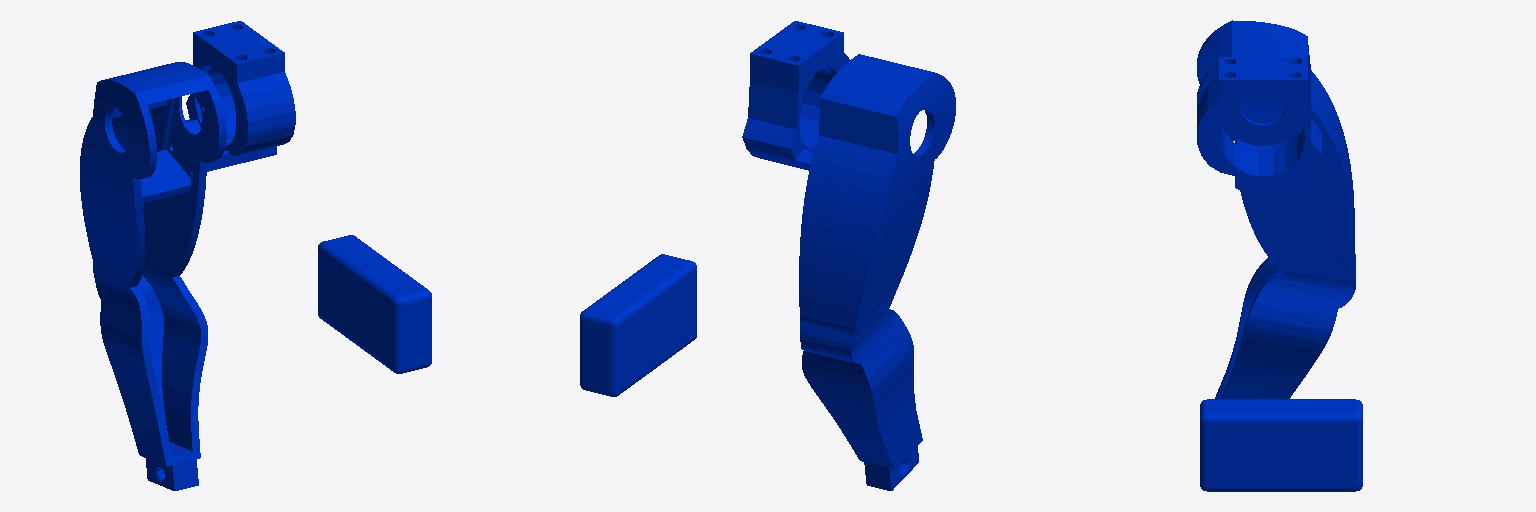
robot.urdf — Zoolander.SLDASM:
<?xml version="1.0" encoding="utf-8"?>
<!-- This URDF was automatically created by SolidWorks to URDF Exporter! Originally created by [author] ([email redacted]) 
     Commit Version: 1.6.0-4-g7f85cfe  Build Version: 1.6.7995.38578
     For more information, please see http://wiki.ros.org/sw_urdf_exporter -->
<robot
  name="Zoolander.SLDASM">
  <link
    name="left_leg">
    <inertial>
      <origin
        xyz="-0.020135 0.0060914 -0.037528"
        rpy="0 0 0" />
      <mass
        value="0.074376" />
      <inertia
        ixx="0.00016466"
        ixy="-5.0302E-06"
        ixz="2.2184E-05"
        iyy="0.00017142"
        iyz="-6.8807E-06"
        izz="3.6129E-05" />
    </inertial>
    <visual>
      <origin
        xyz="0 0 0"
        rpy="0 0 0" />
      <geometry>
        <mesh
          filename="package://Zoolander.SLDASM/meshes/left_leg.STL" />
      </geometry>
      <material
        name="">
        <color
          rgba="1 1 1 1" />
      </material>
    </visual>
    <collision>
      <origin
        xyz="0 0 0"
        rpy="0 0 0" />
      <geometry>
        <mesh
          filename="package://Zoolander.SLDASM/meshes/left_leg.STL" />
      </geometry>
    </collision>
  </link>
  <link
    name="left_foot">
    <inertial>
      <origin
        xyz="-0.041798 -0.010453 -0.14105"
        rpy="0 0 0" />
      <mass
        value="0.05124" />
      <inertia
        ixx="3.5093E-05"
        ixy="-2.5919E-07"
        ixz="-1.4003E-06"
        iyy="1.6948E-05"
        iyz="-5.3422E-06"
        izz="4.6282E-05" />
    </inertial>
    <visual>
      <origin
        xyz="0 0 0"
        rpy="0 0 0" />
      <geometry>
        <mesh
          filename="package://Zoolander.SLDASM/meshes/left_foot.STL" />
      </geometry>
      <material
        name="">
        <color
          rgba="0.79216 0.81961 0.93333 1" />
      </material>
    </visual>
    <collision>
      <origin
        xyz="0 0 0"
        rpy="0 0 0" />
      <geometry>
        <mesh
          filename="package://Zoolander.SLDASM/meshes/left_foot.STL" />
      </geometry>
    </collision>
  </link>
  <joint
    name="left_foot_fixed"
    type="fixed">
    <origin
      xyz="0 0 0"
      rpy="0 0 0" />
    <parent
      link="left_leg" />
    <child
      link="left_foot" />
    <axis
      xyz="0 0 0" />
  </joint>
  <link
    name="right_leg">
    <inertial>
      <origin
        xyz="0.024301 0.0087941 -0.048016"
        rpy="0 0 0" />
      <mass
        value="0.053384" />
      <inertia
        ixx="0.00012812"
        ixy="1.4804E-06"
        ixz="-6.2658E-06"
        iyy="0.00012609"
        iyz="3.6629E-07"
        izz="1.6956E-05" />
    </inertial>
    <visual>
      <origin
        xyz="0 0 0"
        rpy="0 0 0" />
      <geometry>
        <mesh
          filename="package://Zoolander.SLDASM/meshes/right_leg.STL" />
      </geometry>
      <material
        name="">
        <color
          rgba="1 1 1 1" />
      </material>
    </visual>
    <collision>
      <origin
        xyz="0 0 0"
        rpy="0 0 0" />
      <geometry>
        <mesh
          filename="package://Zoolander.SLDASM/meshes/right_leg.STL" />
      </geometry>
    </collision>
  </link>
  <joint
    name="hip_joint"
    type="revolute">
    <origin
      xyz="0 0 0"
      rpy="0 0 0" />
    <parent
      link="left_leg" />
    <child
      link="right_leg" />
    <axis
      xyz="1 0 0" />
    <limit
      lower="-1.6"
      upper="1.6"
      effort="0"
      velocity="0" />
  </joint>
  <link
    name="right_foot">
    <inertial>
      <origin
        xyz="0.041698 -0.010453 -0.14105"
        rpy="0 0 0" />
      <mass
        value="0.05124" />
      <inertia
        ixx="3.5093E-05"
        ixy="2.5904E-07"
        ixz="1.4003E-06"
        iyy="1.6948E-05"
        iyz="-5.3423E-06"
        izz="4.6282E-05" />
    </inertial>
    <visual>
      <origin
        xyz="0 0 0"
        rpy="0 0 0" />
      <geometry>
        <mesh
          filename="package://Zoolander.SLDASM/meshes/right_foot.STL" />
      </geometry>
      <material
        name="">
        <color
          rgba="1 1 1 1" />
      </material>
    </visual>
    <collision>
      <origin
        xyz="0 0 0"
        rpy="0 0 0" />
      <geometry>
        <mesh
          filename="package://Zoolander.SLDASM/meshes/right_foot.STL" />
      </geometry>
    </collision>
  </link>
  <joint
    name="right_foot_fixed"
    type="fixed">
    <origin
      xyz="0 0 0"
      rpy="0 0 0" />
    <parent
      link="right_leg" />
    <child
      link="right_foot" />
    <axis
      xyz="0 0 0" />
  </joint>
  <link
    name="left_arm">
    <inertial>
      <origin
        xyz="-0.047956 0.0025663 -0.01277"
        rpy="0 0 0" />
      <mass
        value="0.062169" />
      <inertia
        ixx="8.9606E-05"
        ixy="-2.2957E-06"
        ixz="2.8314E-05"
        iyy="0.00011168"
        iyz="-5.5857E-06"
        izz="3.1289E-05" />
    </inertial>
    <visual>
      <origin
        xyz="0 0 0"
        rpy="0 0 0" />
      <geometry>
        <mesh
          filename="package://Zoolander.SLDASM/meshes/left_arm.STL" />
      </geometry>
      <material
        name="">
        <color
          rgba="1 1 1 1" />
      </material>
    </visual>
    <collision>
      <origin
        xyz="0 0 0"
        rpy="0 0 0" />
      <geometry>
        <mesh
          filename="package://Zoolander.SLDASM/meshes/left_arm.STL" />
      </geometry>
    </collision>
  </link>
  <joint
    name="left_arm_fixed"
    type="fixed">
    <origin
      xyz="0 0 0"
      rpy="0 0 0" />
    <parent
      link="right_leg" />
    <child
      link="left_arm" />
    <axis
      xyz="0 0 0" />
  </joint>
  <link
    name="left_hand">
    <inertial>
      <origin
        xyz="-0.063219 0.006502 -0.096374"
        rpy="0 0 0" />
      <mass
        value="0.047" />
      <inertia
        ixx="1.6385E-05"
        ixy="0"
        ixz="0"
        iyy="4.4778E-06"
        iyz="0"
        izz="1.3827E-05" />
    </inertial>
    <visual>
      <origin
        xyz="0 0 0"
        rpy="0 0 0" />
      <geometry>
        <mesh
          filename="package://Zoolander.SLDASM/meshes/left_hand.STL" />
      </geometry>
      <material
        name="">
        <color
          rgba="0.0078431 0.23922 0.82353 1" />
      </material>
    </visual>
    <collision>
      <origin
        xyz="0 0 0"
        rpy="0 0 0" />
      <geometry>
        <mesh
          filename="package://Zoolander.SLDASM/meshes/left_hand.STL" />
      </geometry>
    </collision>
  </link>
  <joint
    name="left_hand_fixed"
    type="fixed">
    <origin
      xyz="0 0 0"
      rpy="0 0 0" />
    <parent
      link="left_arm" />
    <child
      link="left_hand" />
    <axis
      xyz="0 0 0" />
  </joint>
  <link
    name="right_arm">
    <inertial>
      <origin
        xyz="0.04926 0.00272 -0.01279"
        rpy="0 0 0" />
      <mass
        value="0.05925" />
      <inertia
        ixx="9.294E-05"
        ixy="2.11E-06"
        ixz="-3.114E-05"
        iyy="0.00011438"
        iyz="-5.73E-06"
        izz="3.013E-05" />
    </inertial>
    <visual>
      <origin
        xyz="0 0 0"
        rpy="0 0 0" />
      <geometry>
        <mesh
          filename="package://Zoolander.SLDASM/meshes/right_arm.STL" />
      </geometry>
      <material
        name="">
        <color
          rgba="1 1 1 1" />
      </material>
    </visual>
    <collision>
      <origin
        xyz="0 0 0"
        rpy="0 0 0" />
      <geometry>
        <mesh
          filename="package://Zoolander.SLDASM/meshes/right_arm.STL" />
      </geometry>
    </collision>
  </link>
  <joint
    name="right_arm_fixed"
    type="fixed">
    <origin
      xyz="0 0 0"
      rpy="0 0 0" />
    <parent
      link="left_leg" />
    <child
      link="right_arm" />
    <axis
      xyz="0 0 0" />
  </joint>
  <link
    name="right_hand">
    <inertial>
      <origin
        xyz="0.063219 0.006502 -0.096732"
        rpy="0 0 0" />
      <mass
        value="0.047" />
      <inertia
        ixx="1.6385E-05"
        ixy="0"
        ixz="0"
        iyy="4.4778E-06"
        iyz="0"
        izz="1.3827E-05" />
    </inertial>
    <visual>
      <origin
        xyz="0 0 0"
        rpy="0 0 0" />
      <geometry>
        <mesh
          filename="package://Zoolander.SLDASM/meshes/right_hand.STL" />
      </geometry>
      <material
        name="">
        <color
          rgba="0.0078431 0.23922 0.82353 1" />
      </material>
    </visual>
    <collision>
      <origin
        xyz="0 0 0"
        rpy="0 0 0" />
      <geometry>
        <mesh
          filename="package://Zoolander.SLDASM/meshes/right_hand.STL" />
      </geometry>
    </collision>
  </link>
  <joint
    name="right_hand_fixed"
    type="fixed">
    <origin
      xyz="0 0 0"
      rpy="0 0 0" />
    <parent
      link="right_arm" />
    <child
      link="right_hand" />
    <axis
      xyz="0 0 0" />
  </joint>
</robot>

--- Render facts (derived) ---
3 views of the same robot in one strip: view 1: azimuth 30°, elevation 25°; view 2: azimuth 150°, elevation 25°; view 3: azimuth 270°, elevation 25° (orthographic).
Robot: Zoolander.SLDASM — 8 links, 7 joints (1 revolute, 6 fixed); root link left_leg; default pose: every joint at zero.
Visible links, largest first — view 1: right_hand; view 2: right_hand; view 3: right_hand.
Link boxes in pixels (<box>): right_hand: <box>80,21,431,490</box>; right_hand: <box>580,21,955,490</box>; right_hand: <box>1197,20,1362,491</box>.
Bounding box of the posed robot: 0.1178 × 0.0589 × 0.1629 m (x, y, z).
Meshes: 8 distinct files referenced, 1 mesh visuals loaded (1 binary STL); not drawn: 7 (reference not matched to a file when rendering).